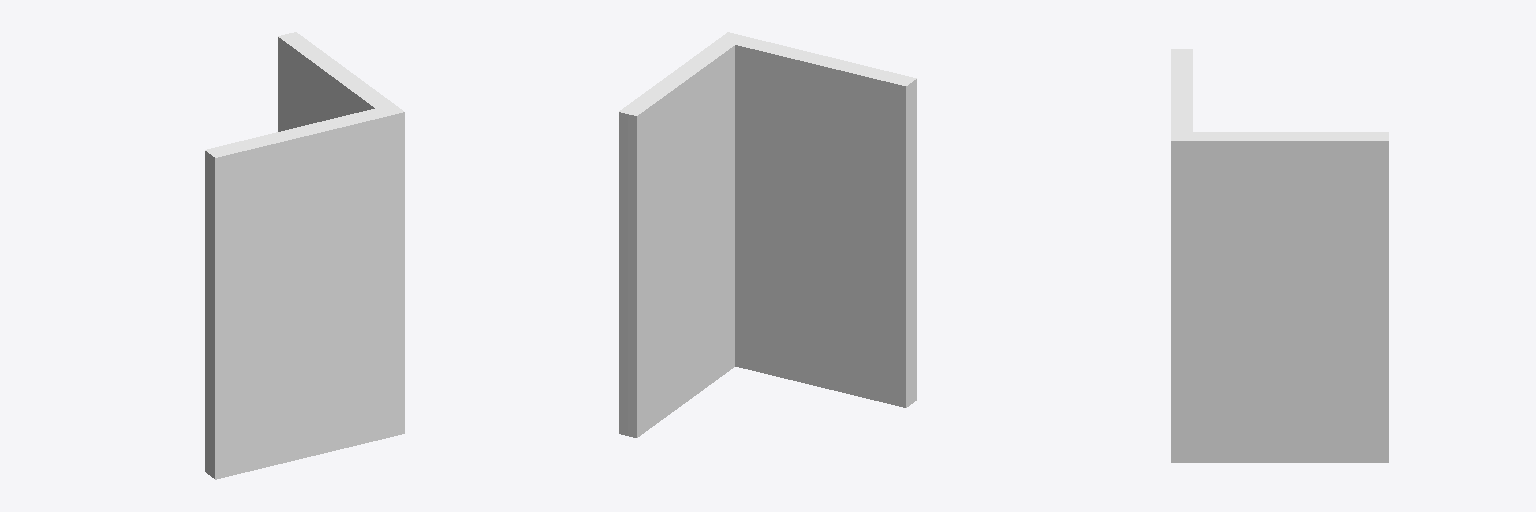
The picture shows the model from 3 angles: view 1: azimuth 30°, elevation 25°; view 2: azimuth 150°, elevation 25°; view 3: azimuth 270°, elevation 25°; orthographic projection.
Bounding box in the file's own units: 2 × 3.24 × 2.
1 materials, 1 textured.